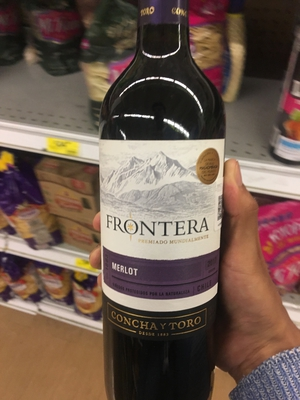frontera merlot: (84, 15, 240, 396)
